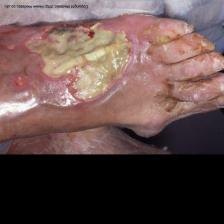Wound: (29, 17, 135, 109)
